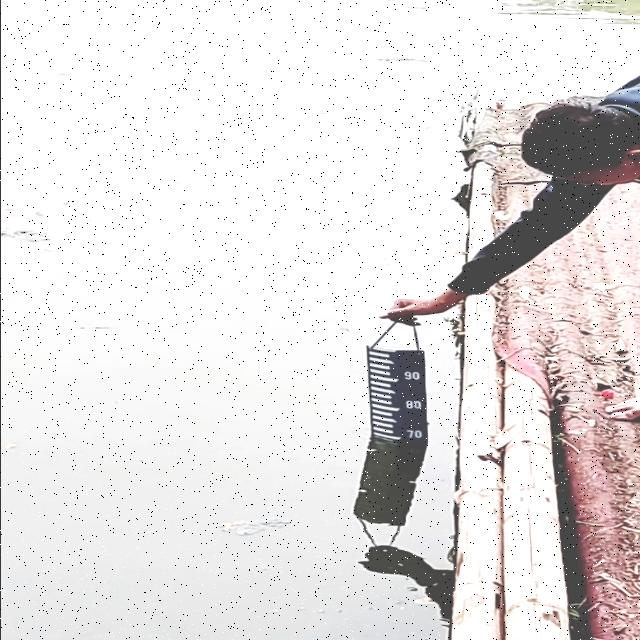70: (406, 428, 424, 439)
80: (404, 398, 423, 411)
90: (403, 370, 421, 382)
staff: (365, 345, 429, 441)
